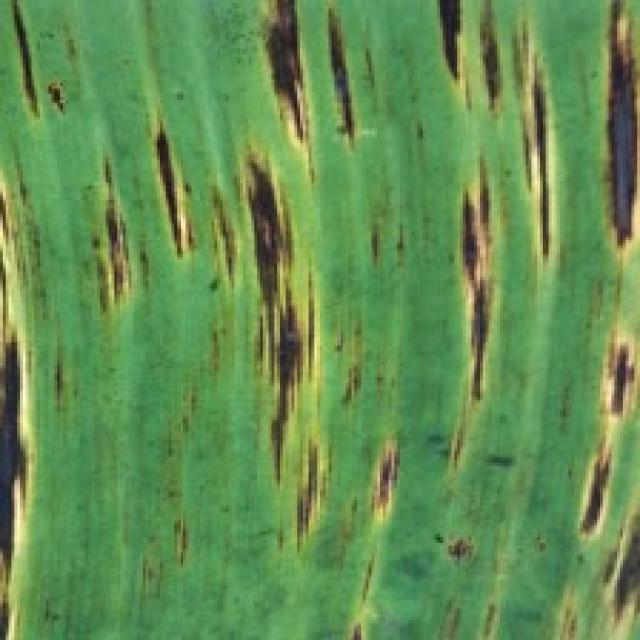Early_leaf_spot: (207, 104, 341, 535), (410, 156, 510, 462), (560, 308, 637, 640), (236, 0, 383, 159), (486, 12, 566, 274), (320, 411, 411, 640), (0, 163, 40, 628), (585, 0, 640, 273), (69, 140, 138, 323), (402, 0, 511, 114), (422, 508, 509, 640), (0, 0, 74, 137), (145, 94, 198, 245), (190, 170, 242, 284)
